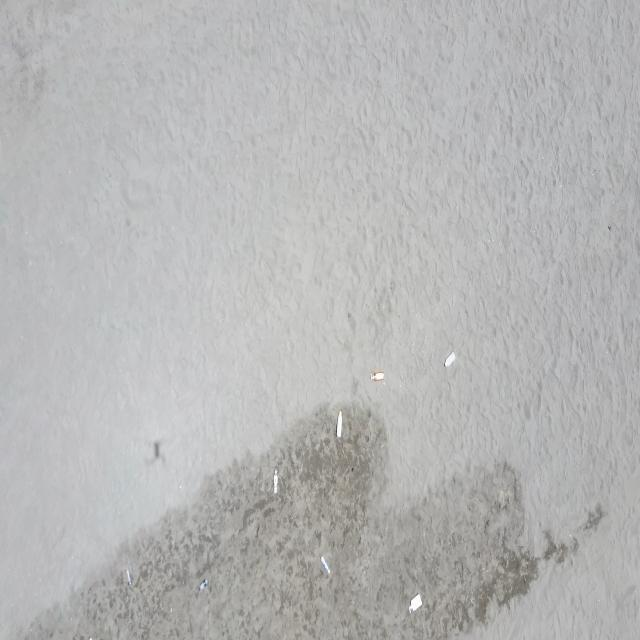plastic-bottle: (408, 593, 423, 614), (368, 369, 386, 384), (334, 409, 342, 439), (443, 351, 456, 368), (196, 578, 211, 592), (272, 469, 280, 495), (321, 556, 331, 576), (125, 568, 134, 589)
